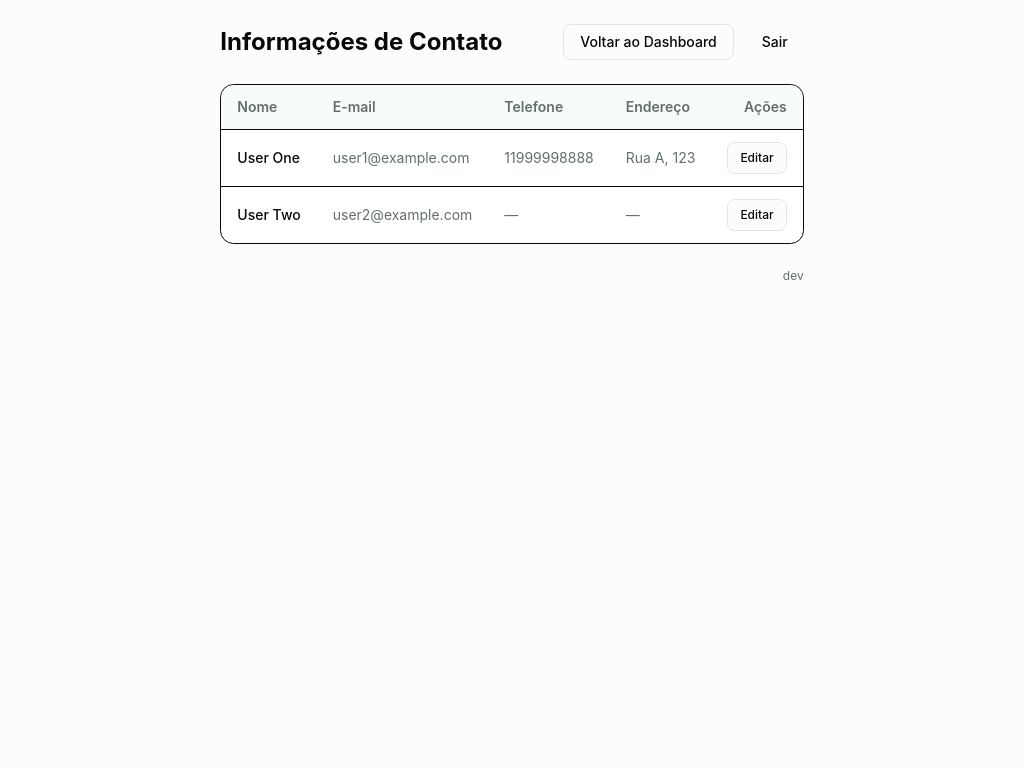
ContactInfoDashboard › opens edit modal with pre-filled phone and address
Expected: the text "User One" is shown, [221,130,317,186]
Click the button "Editar" in the row of "User One" at {"x": 757, "y": 158}, box [727,142,787,174]
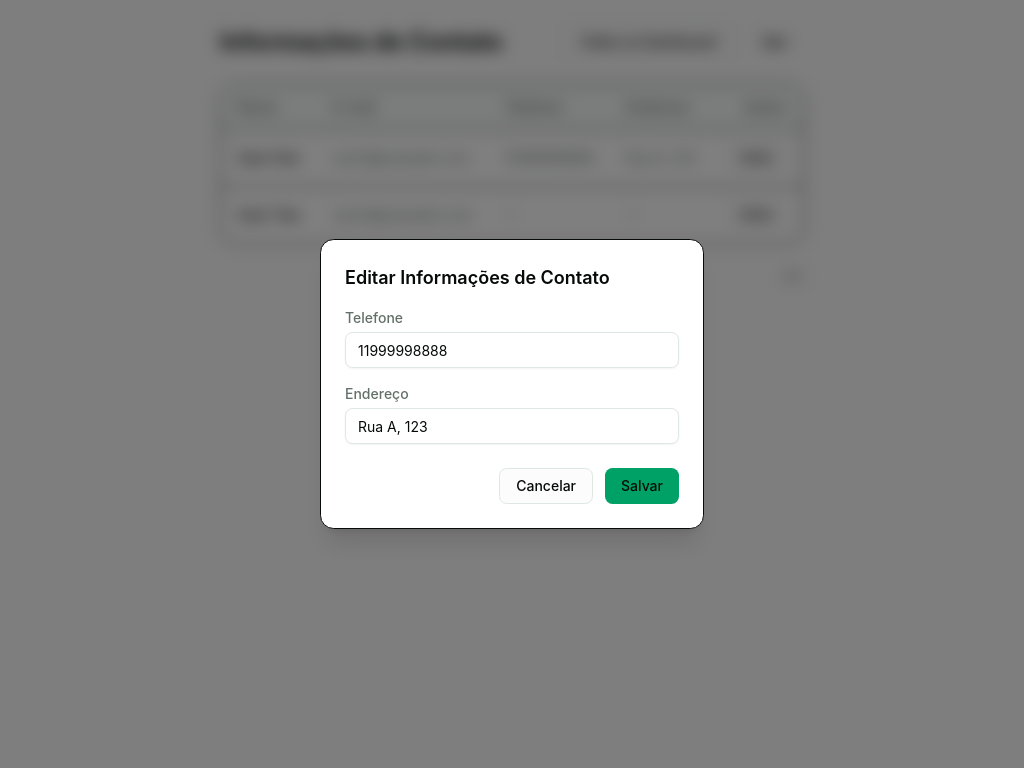
Expected: the 1st field showing "11999998888" is shown, [345,332,679,368]
Expected: the 2nd field showing "Rua A, 123" is shown, [345,408,679,444]
